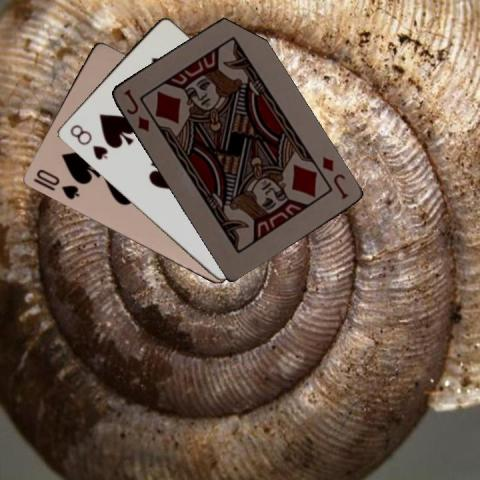10s: (32, 166, 80, 201)
8s: (66, 122, 109, 162)
Jd: (120, 85, 151, 134), (319, 153, 349, 201)
